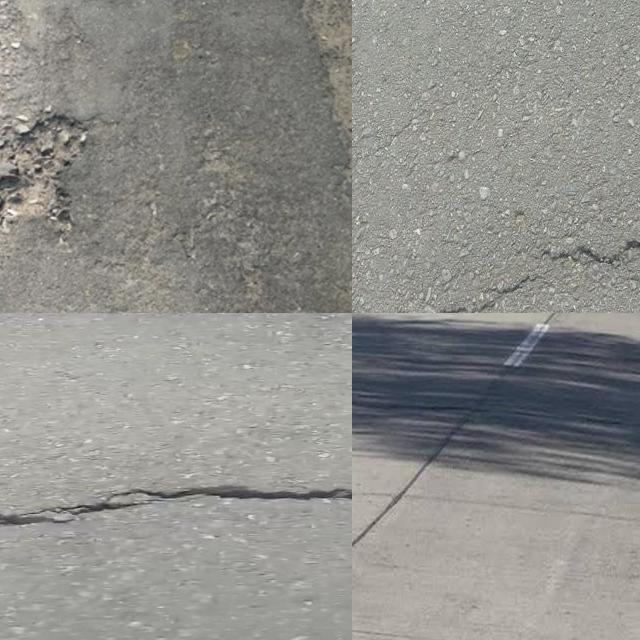Lubang: (0, 115, 105, 222)
Melintang: (0, 473, 352, 539), (424, 227, 640, 313)
Memanjang: (352, 313, 571, 573)
